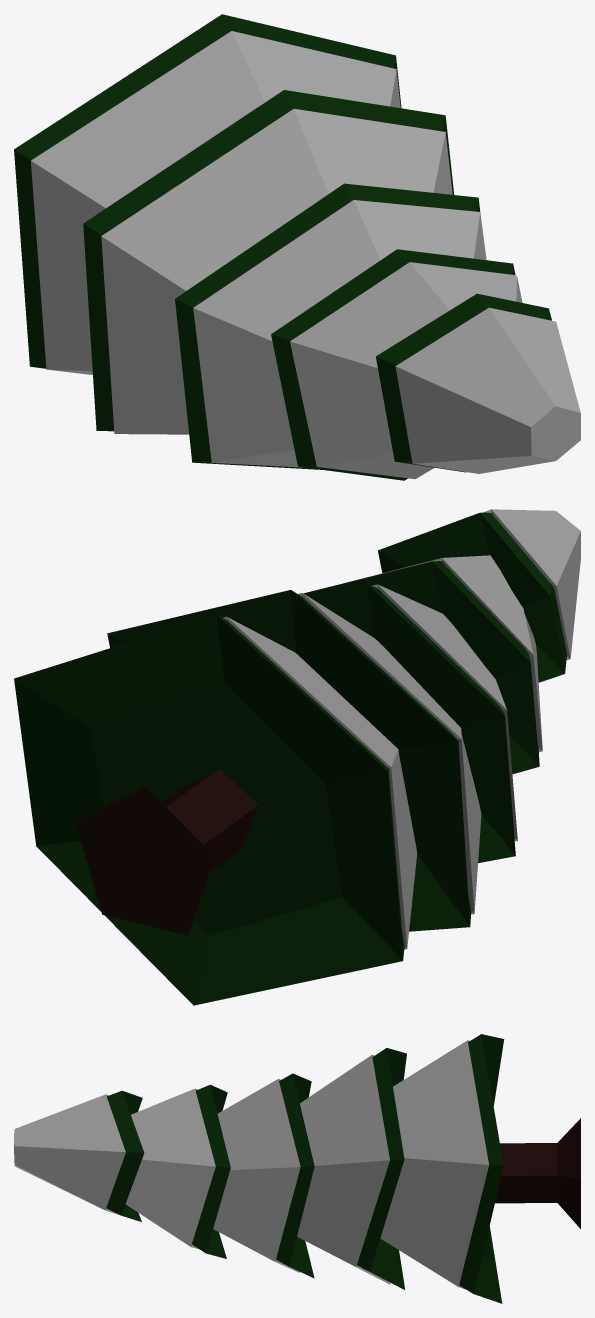
3 views of the same model, one above another, from view 1: azimuth 30°, elevation 25°; view 2: azimuth 150°, elevation 25°; view 3: azimuth 270°, elevation 25° (orthographic). The views are drawn at different scales.
Visible parts, largest first — view 1: forest3_2; view 2: forest3_2; view 3: forest3_2.
Part boxes in pixels (x1,y1,x2,y2): forest3_2: (14, 14, 580, 480); forest3_2: (14, 509, 580, 1005); forest3_2: (14, 1034, 580, 1303).
Bounding box in the file's own units: 193 × 360 × 187.
